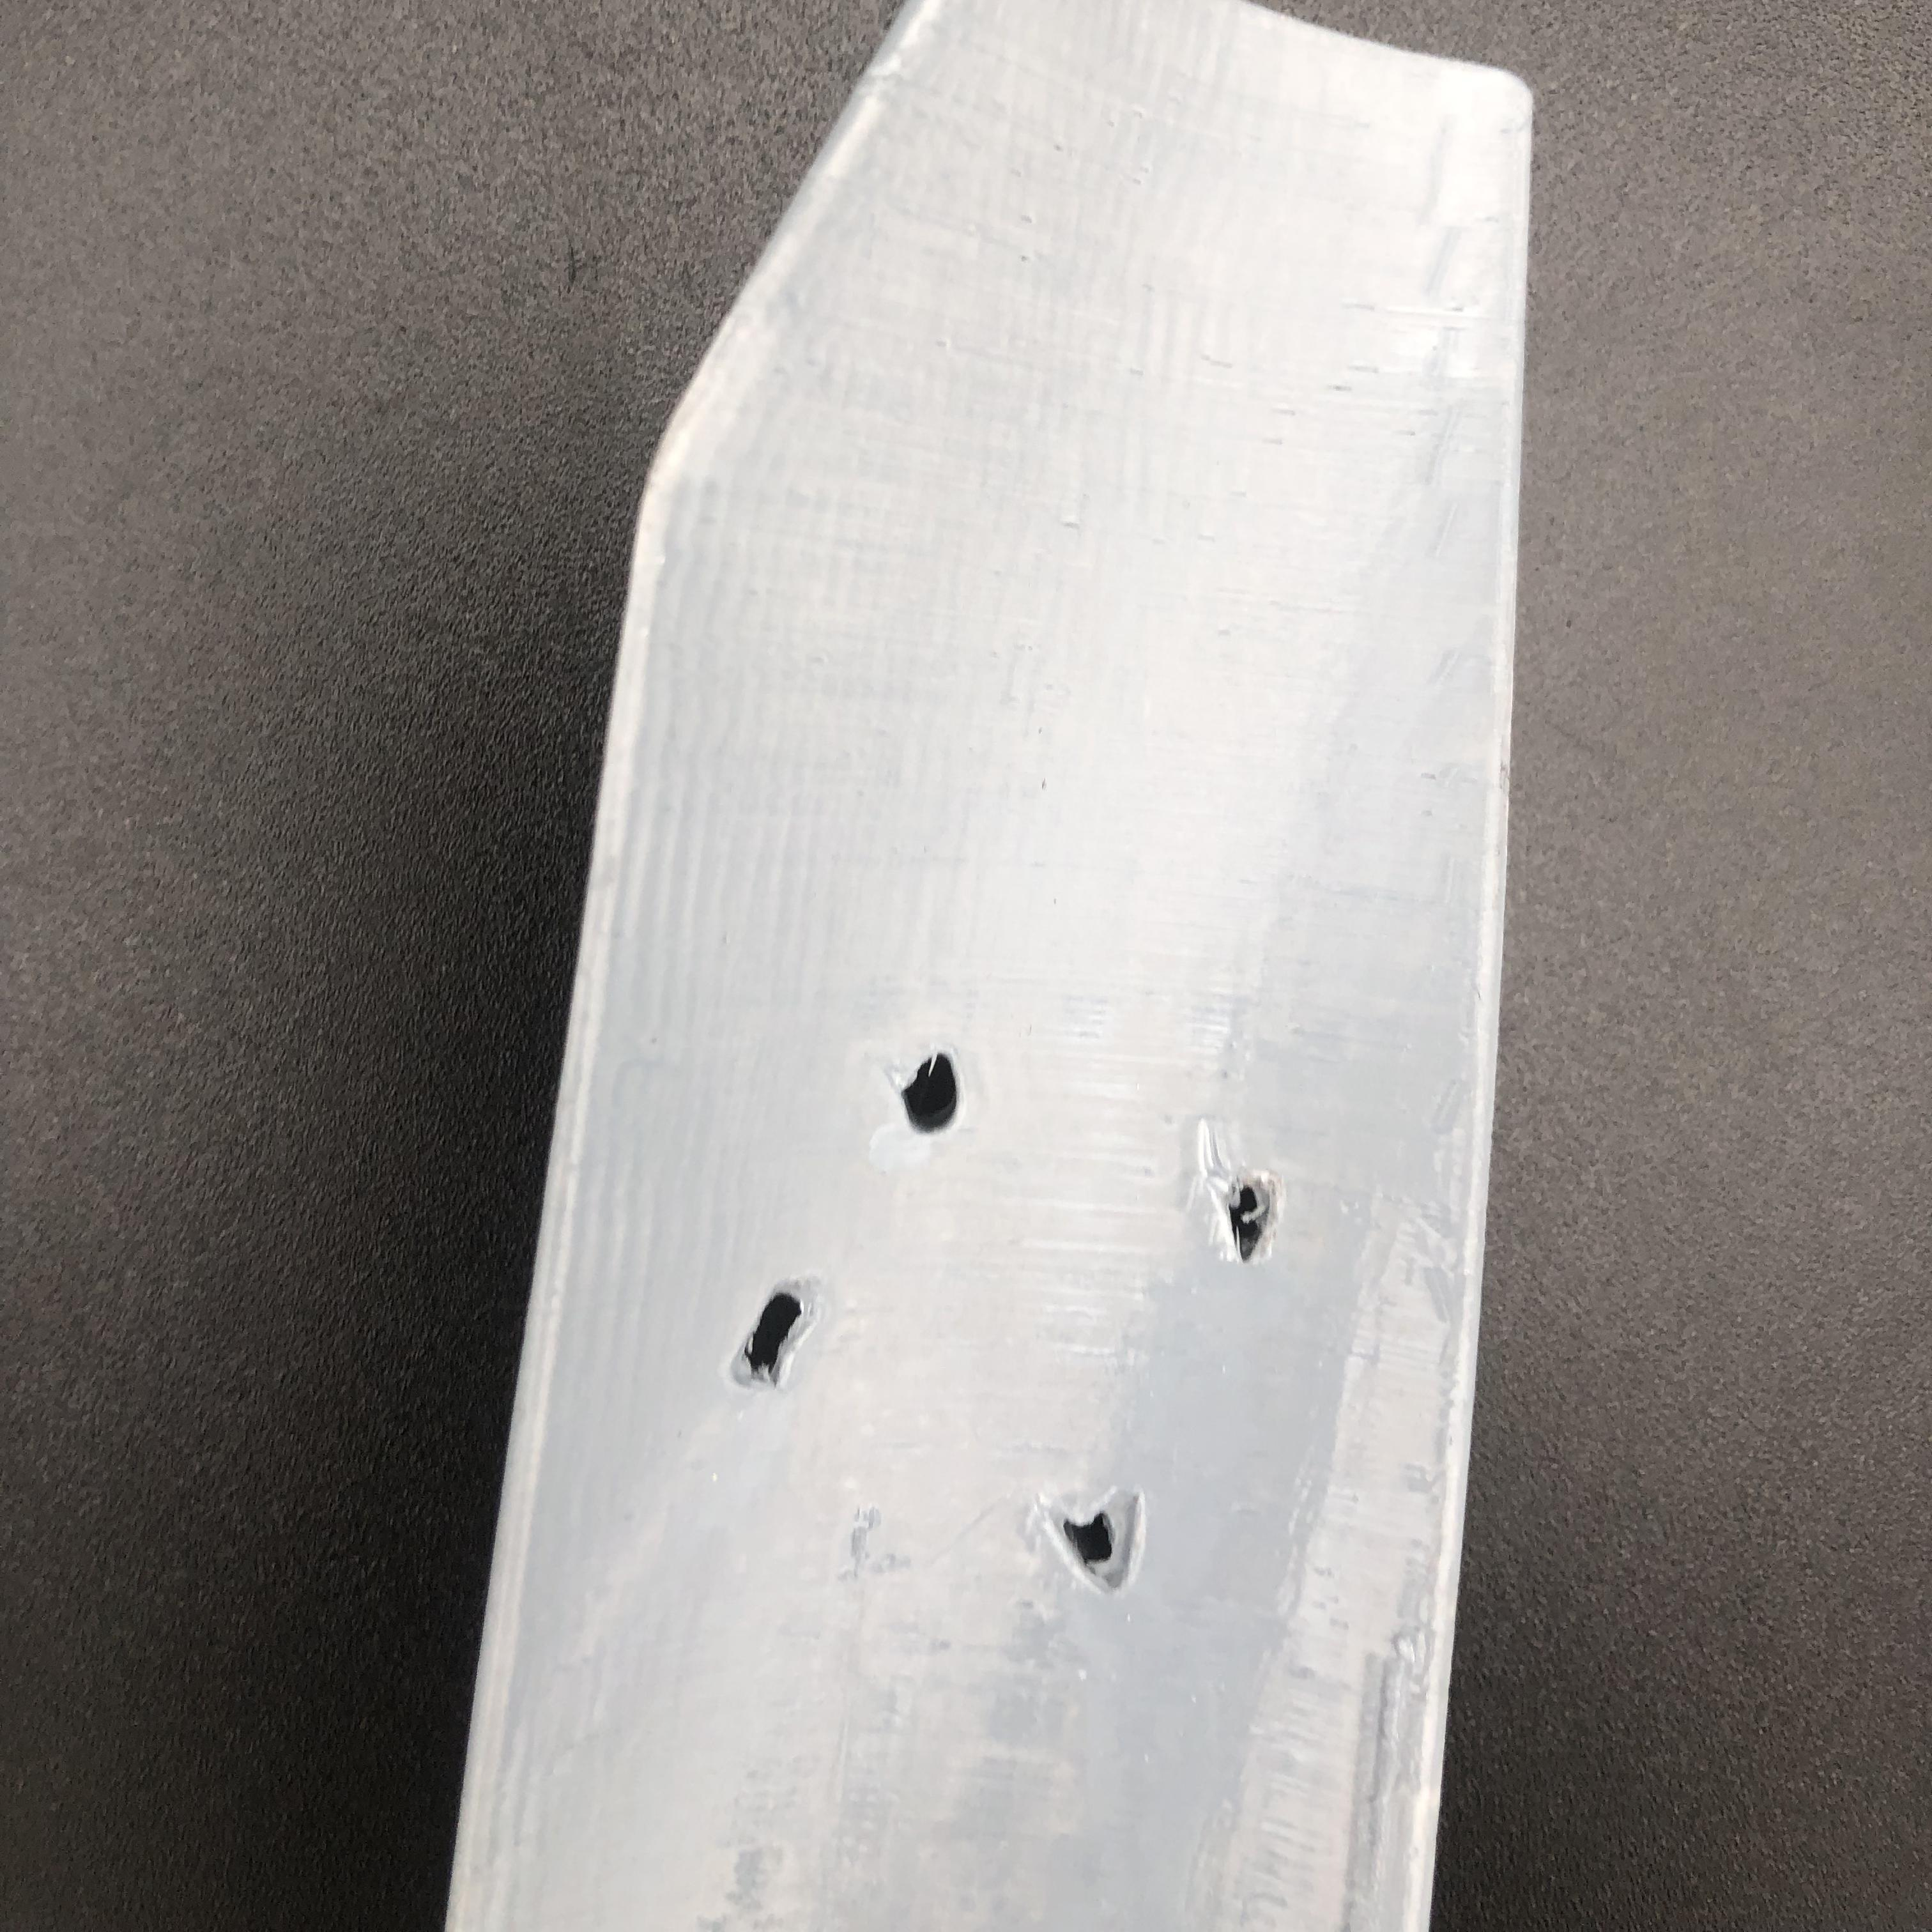breakdown: (743, 1040, 1297, 1592)
